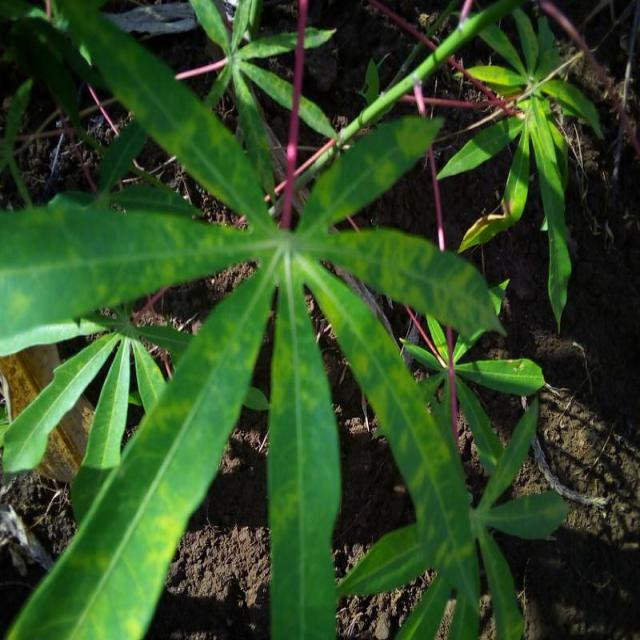cassava leaf: (2, 1, 562, 638), (5, 253, 278, 638)
